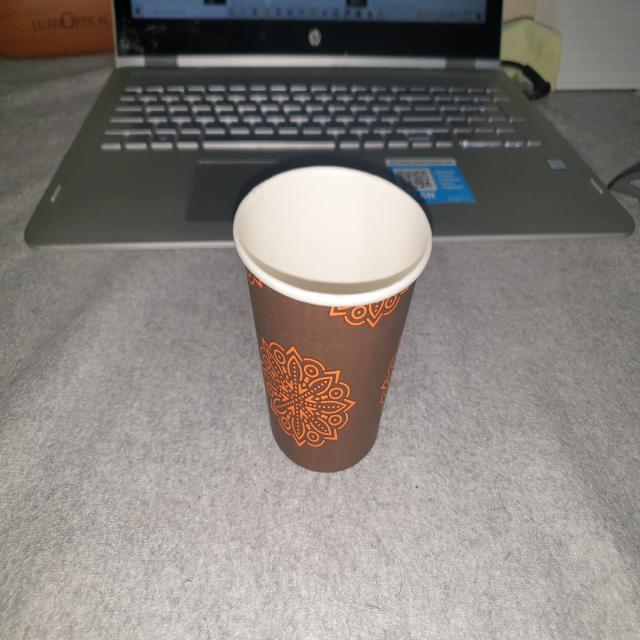cups: (234, 161, 436, 478)
